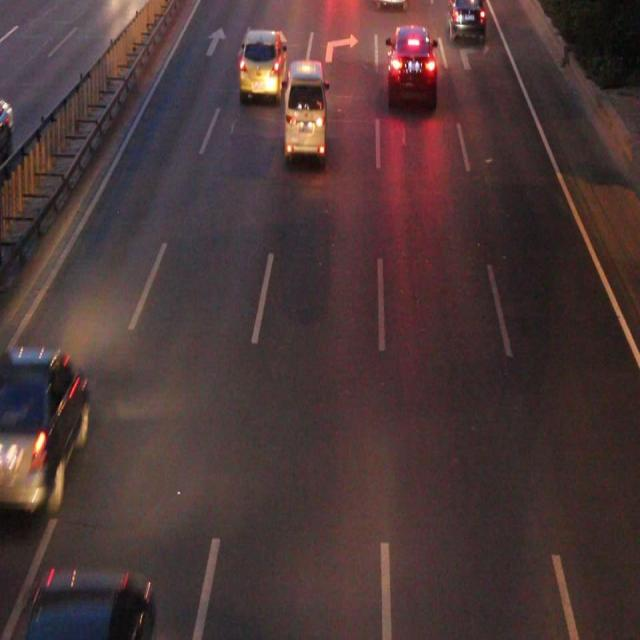car: (0, 345, 86, 502), (387, 30, 435, 97), (238, 30, 284, 96), (447, 1, 483, 37)
truck: (283, 61, 325, 156)
